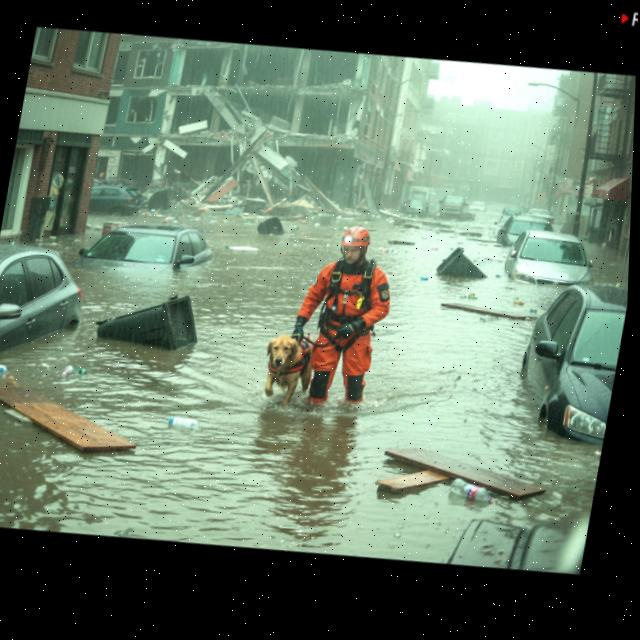dog: (257, 321, 321, 411)
rescuer: (282, 210, 413, 431)
